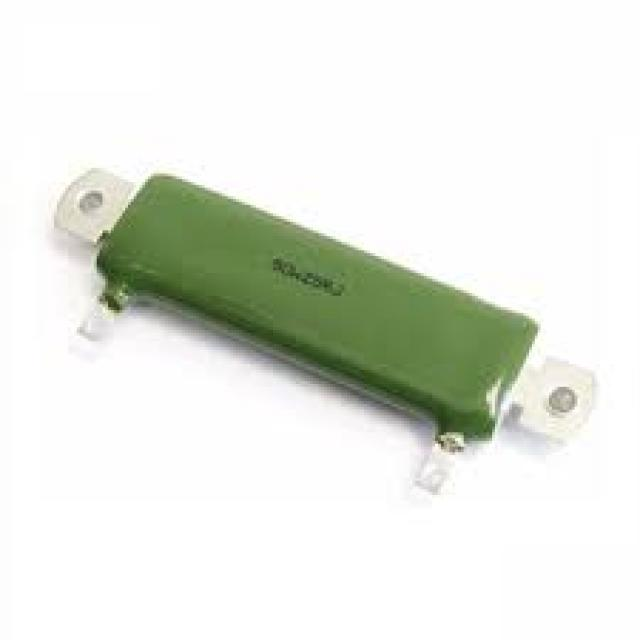Resistor: (134, 121, 572, 484)
